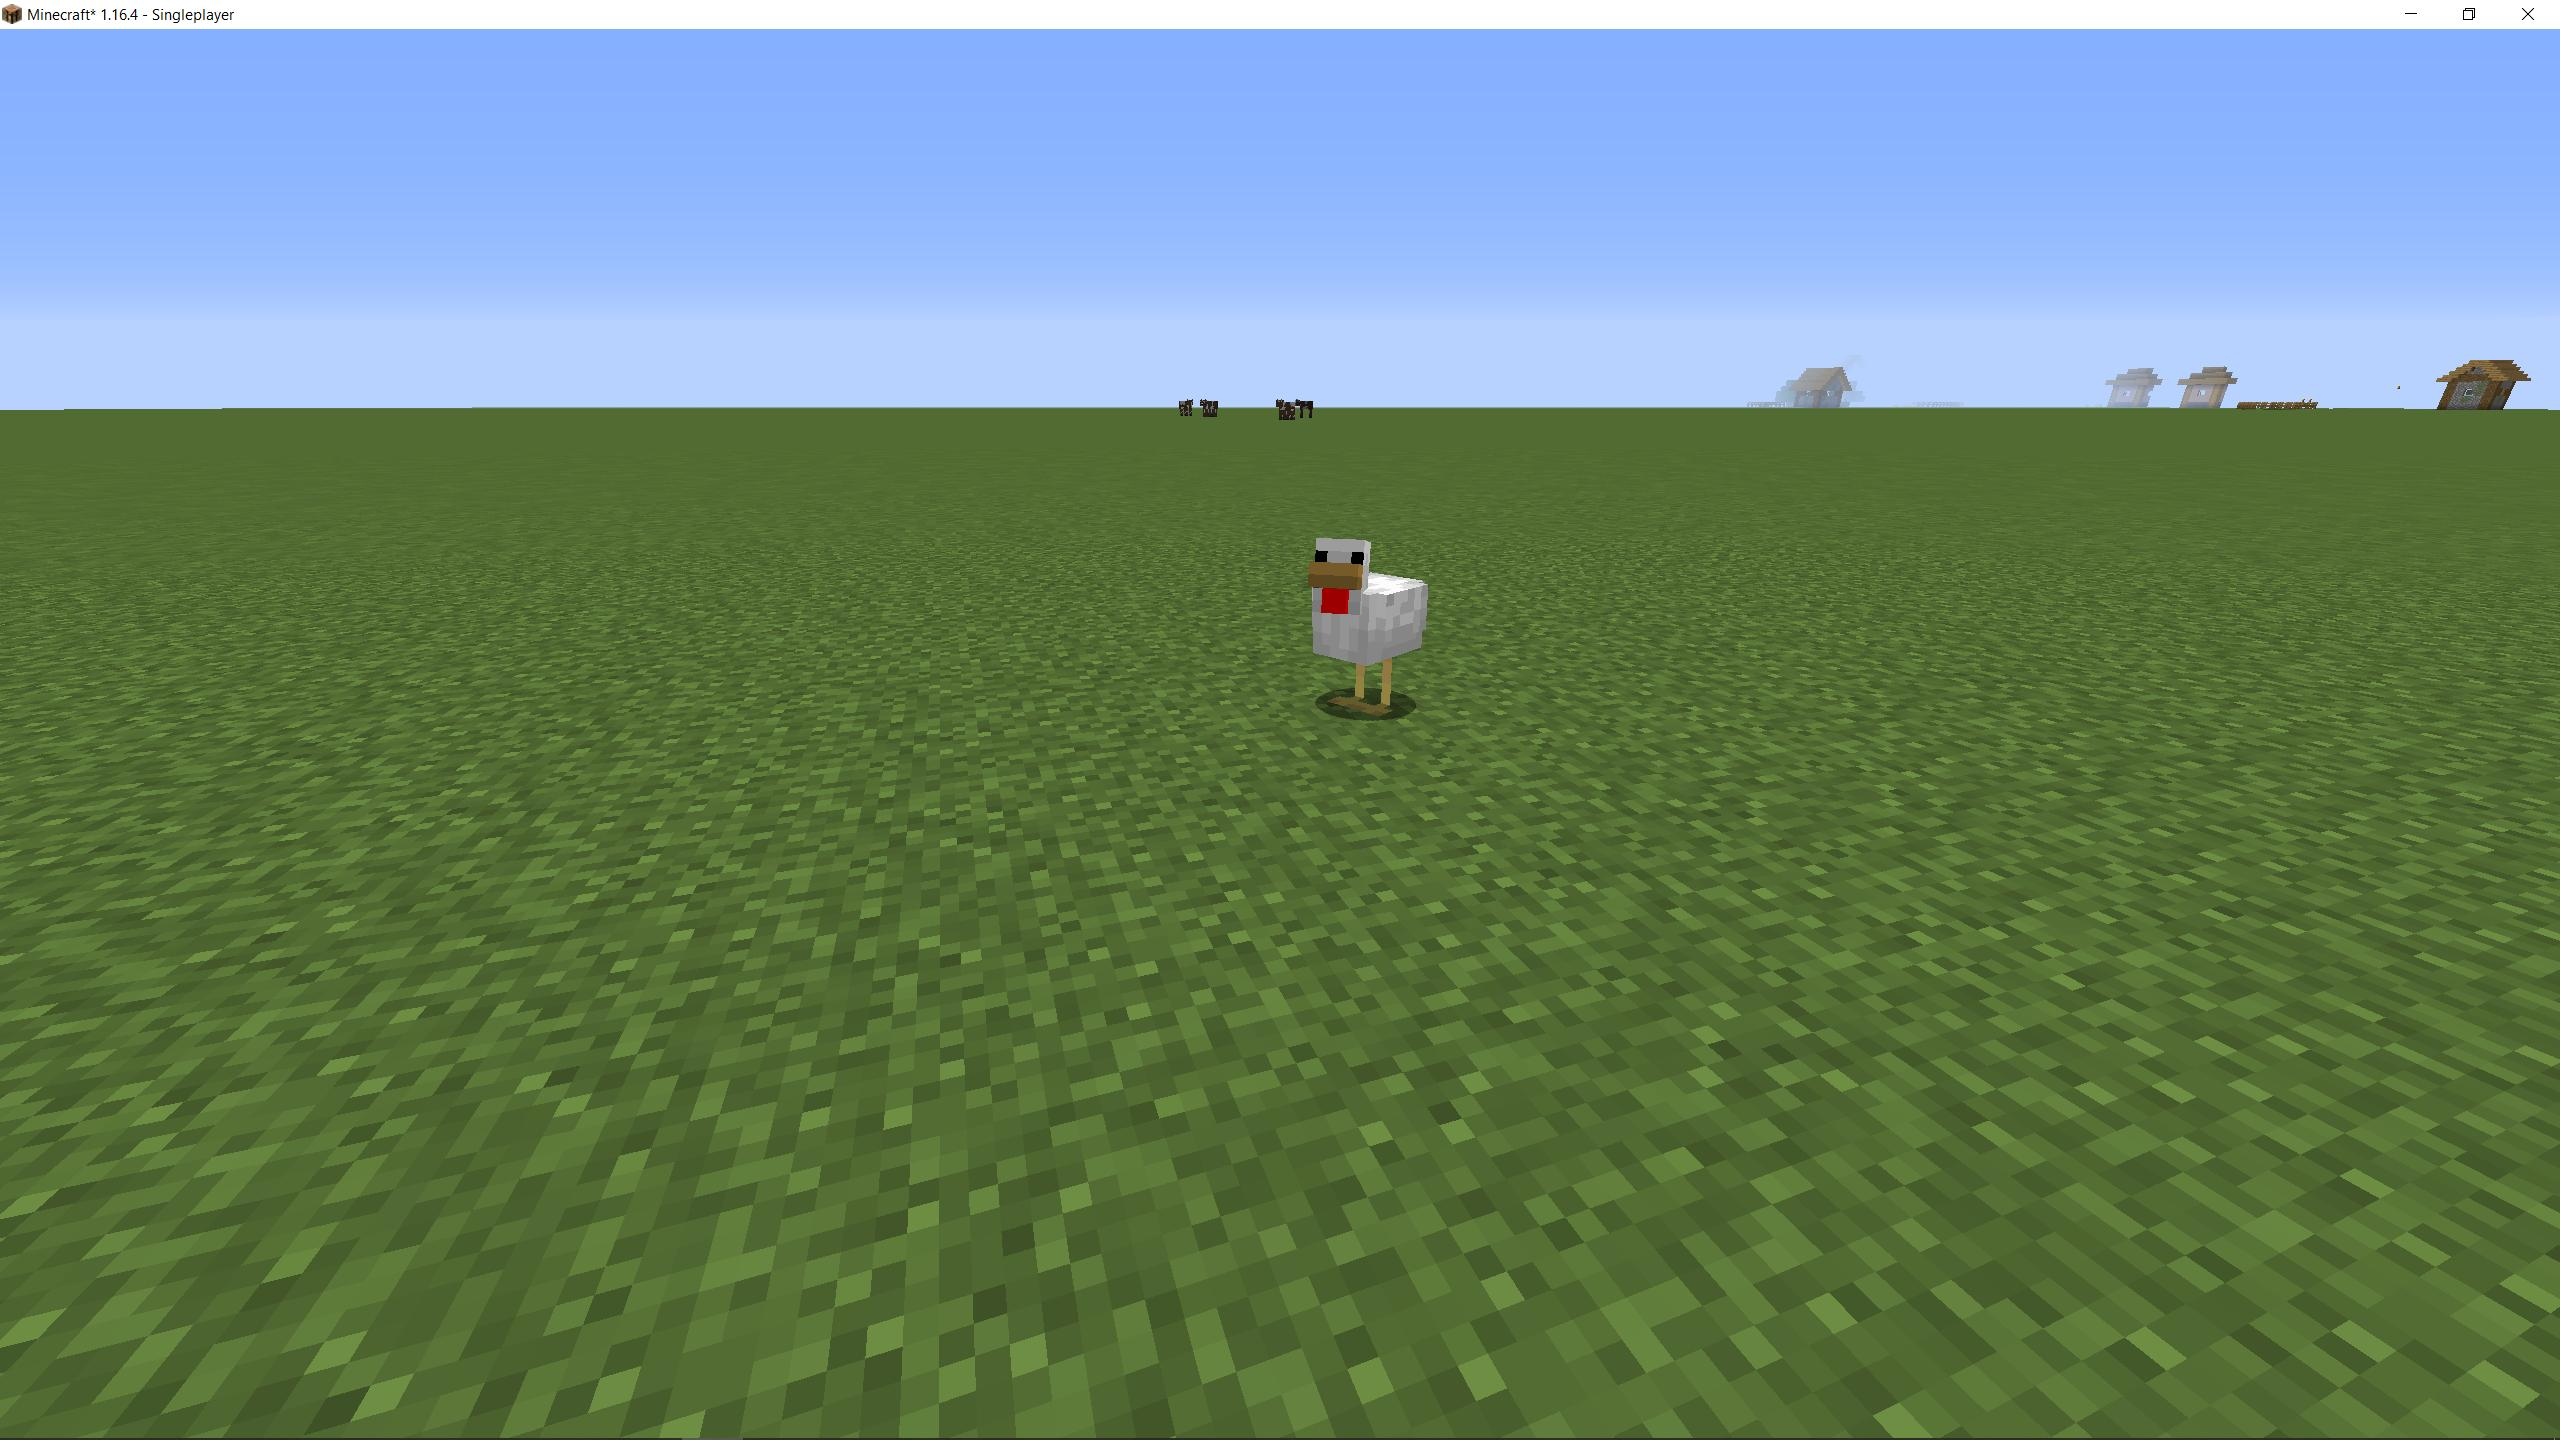chicken: (1303, 535, 1429, 726)
